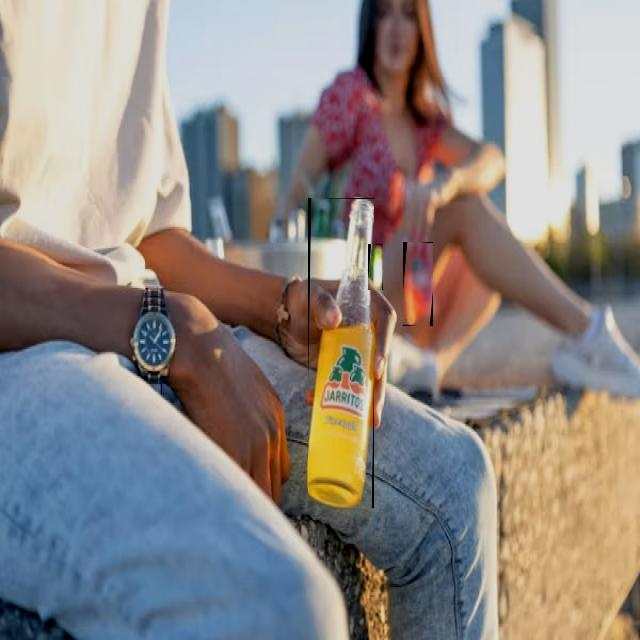Bottle: (308, 199, 374, 507), (404, 242, 433, 326), (368, 245, 382, 289)
